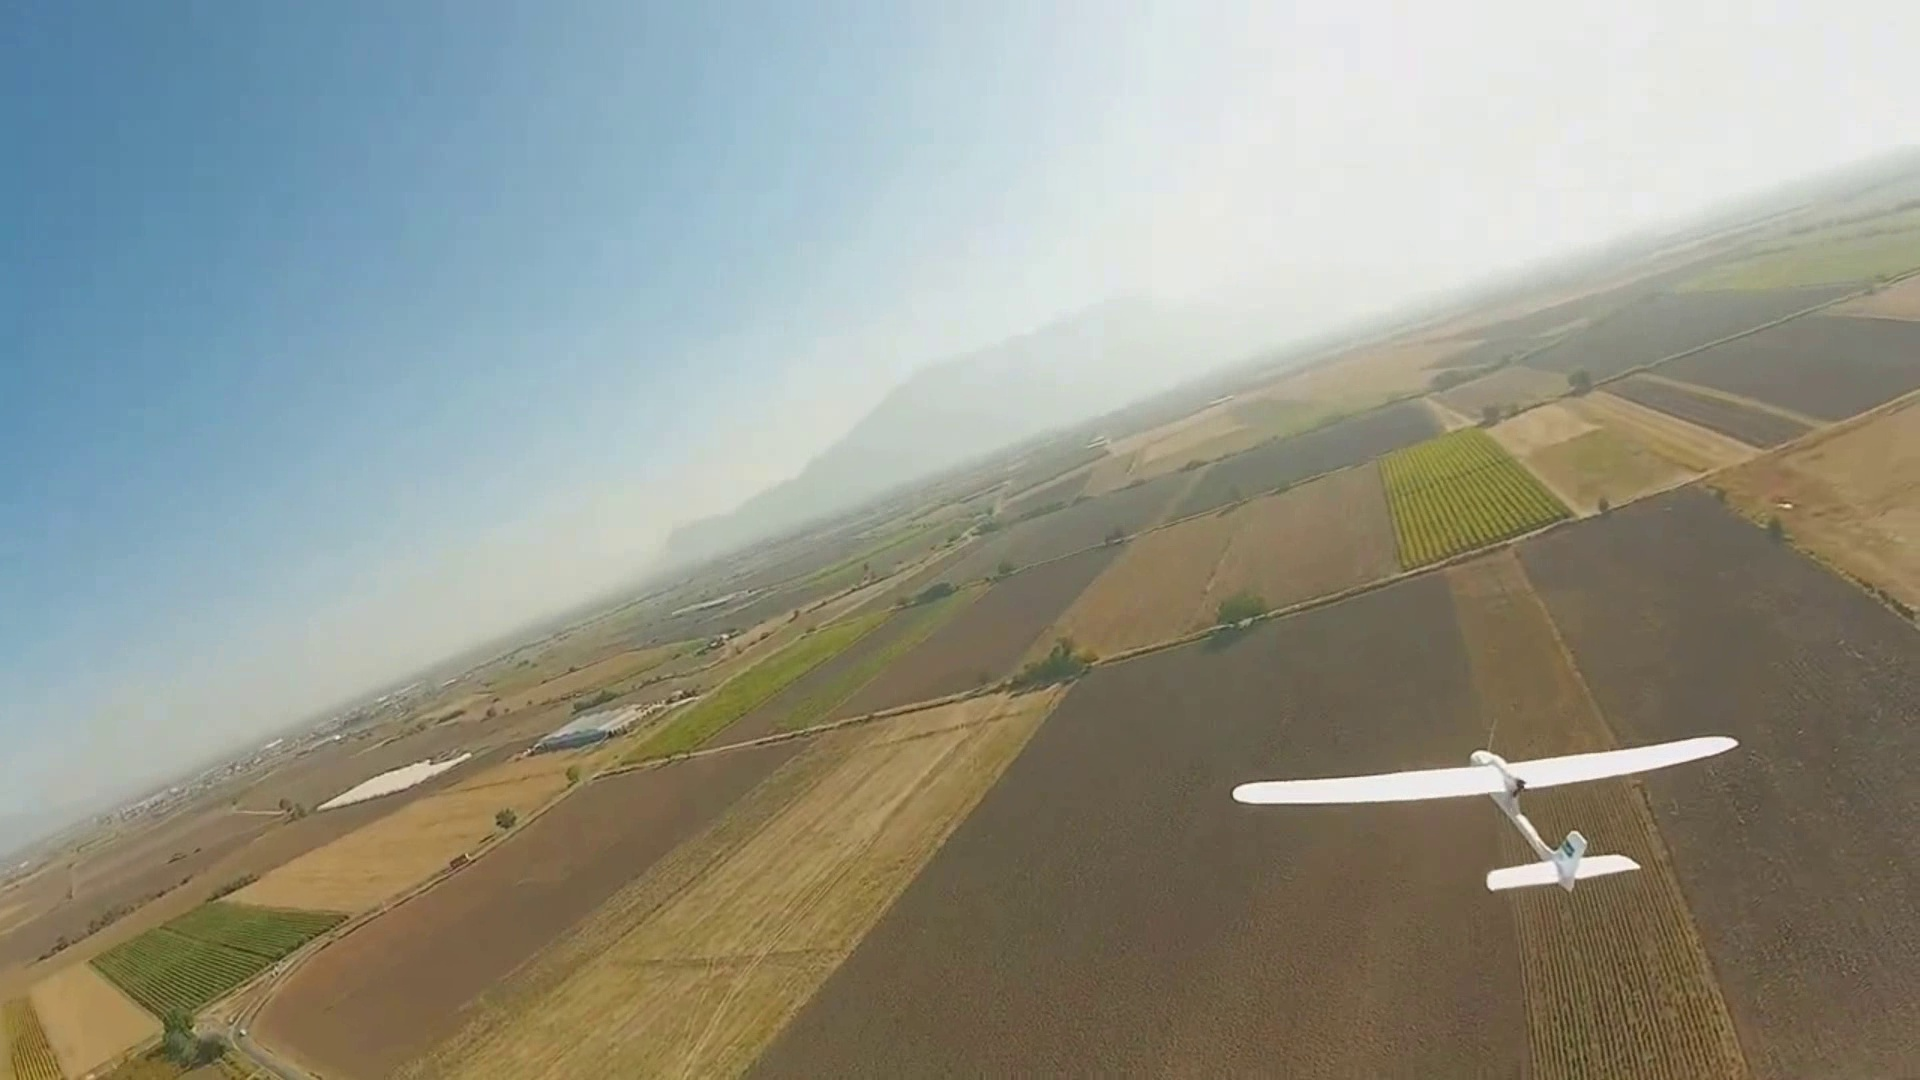airplane: (1230, 738, 1737, 890)
